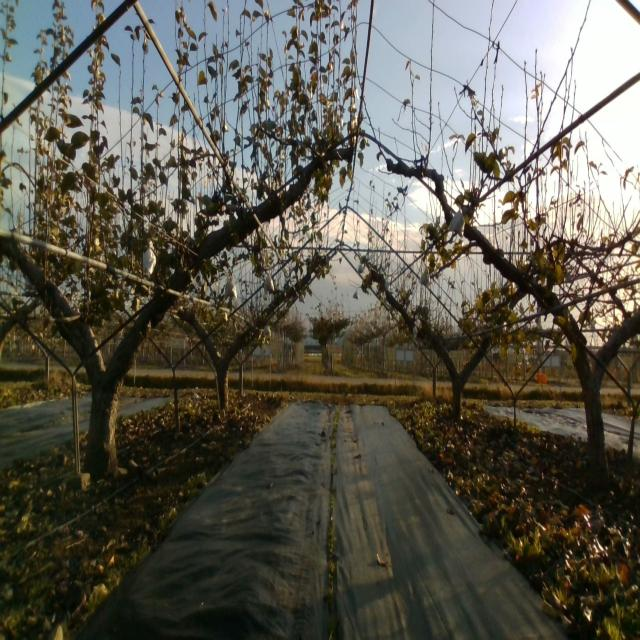pearbags: (446, 208, 466, 239), (141, 239, 156, 276), (223, 272, 237, 300), (264, 272, 276, 297)
